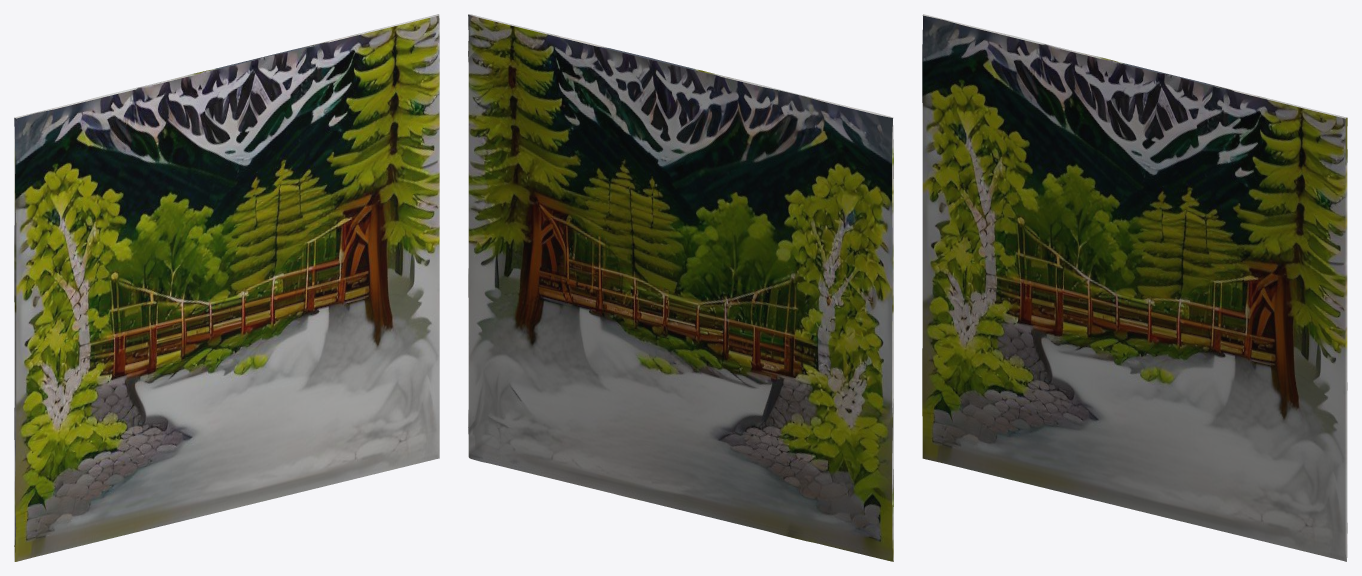
The model's file is kamikochi.glb.
The picture shows the model from 3 angles, left to right: view 1: azimuth 30°, elevation 25°; view 2: azimuth 150°, elevation 25°; view 3: azimuth 330°, elevation 25°; orthographic projection.
Parts seen in each view (by area): view 1: logan-textured.obj; view 2: logan-textured.obj; view 3: logan-textured.obj.
Part boxes in pixels (bbox=[...]): logan-textured.obj: bbox=[14, 14, 439, 561]; logan-textured.obj: bbox=[468, 14, 893, 561]; logan-textured.obj: bbox=[922, 14, 1347, 561].
Bounding box in the file's own units: 1 × 0.9997 × 0.0062.
Materials: 1 (1 with a texture image).
